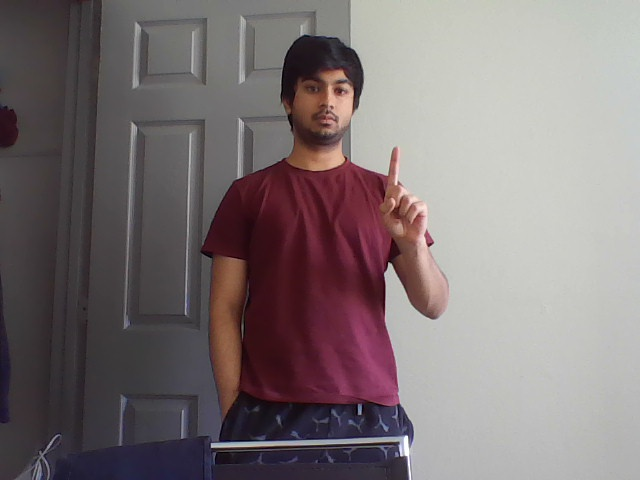one: (376, 140, 436, 246)
